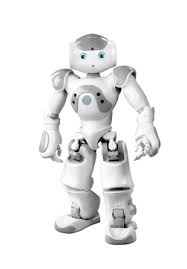nao: (28, 22, 174, 257)
